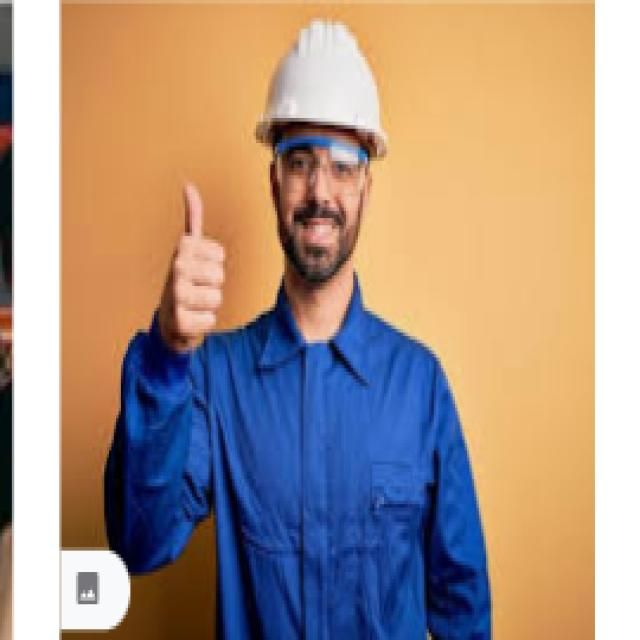glasses: (271, 134, 378, 190)
